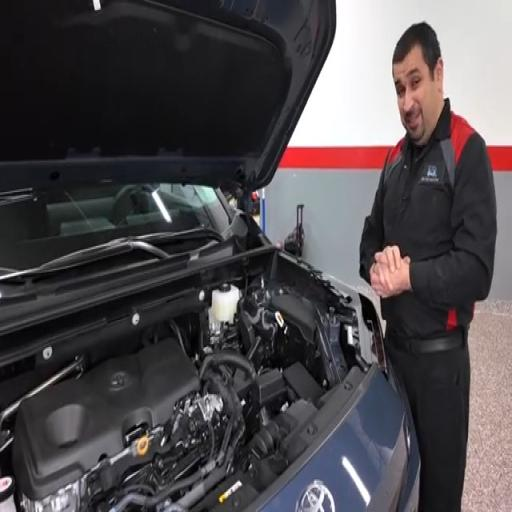bumper: (259, 372, 419, 511)
emblem: (296, 481, 335, 511)
hood: (0, 0, 335, 190)
windshield: (0, 183, 229, 273)
